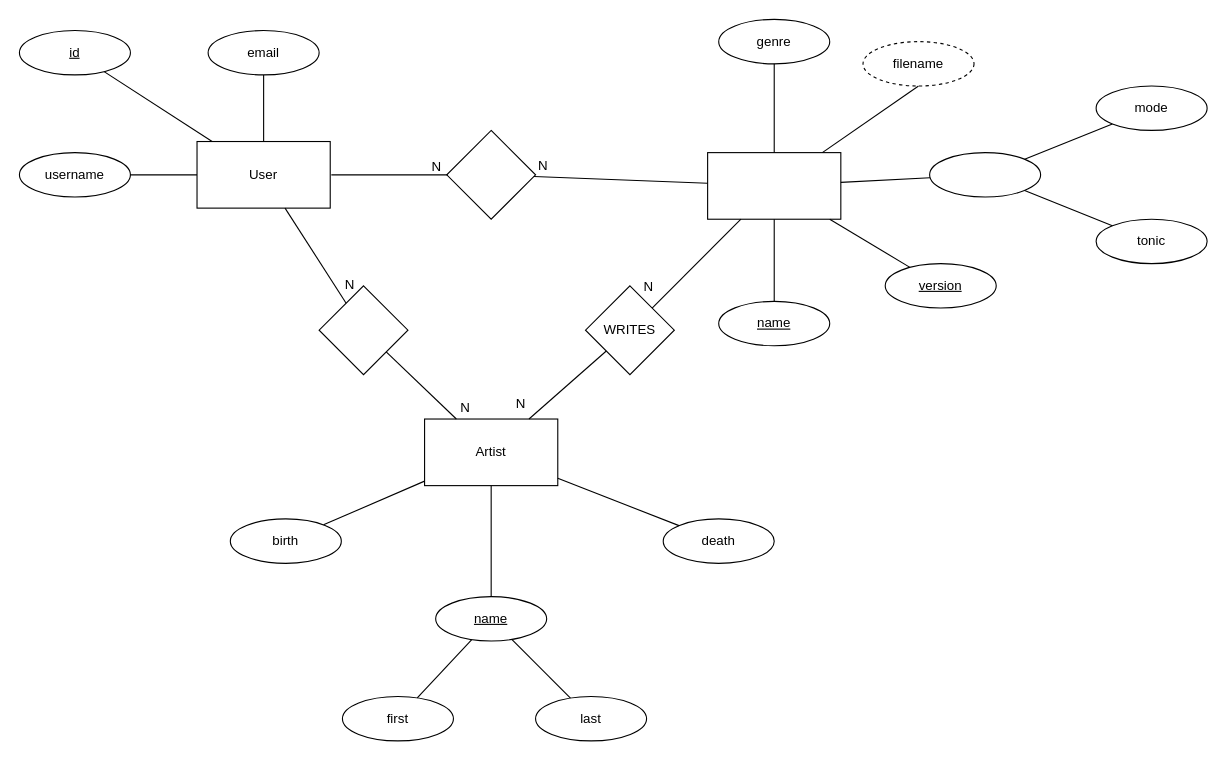
This 1227x760 diagram has some shape labels left out. The centre of each missing label's shape, as x and y in pixels:
"FOLLOWS" belongs at [363,330].
"key" belongs at [985,174].
"LIKES" belongs at [491,174].
"Song" belongs at [774,185].
